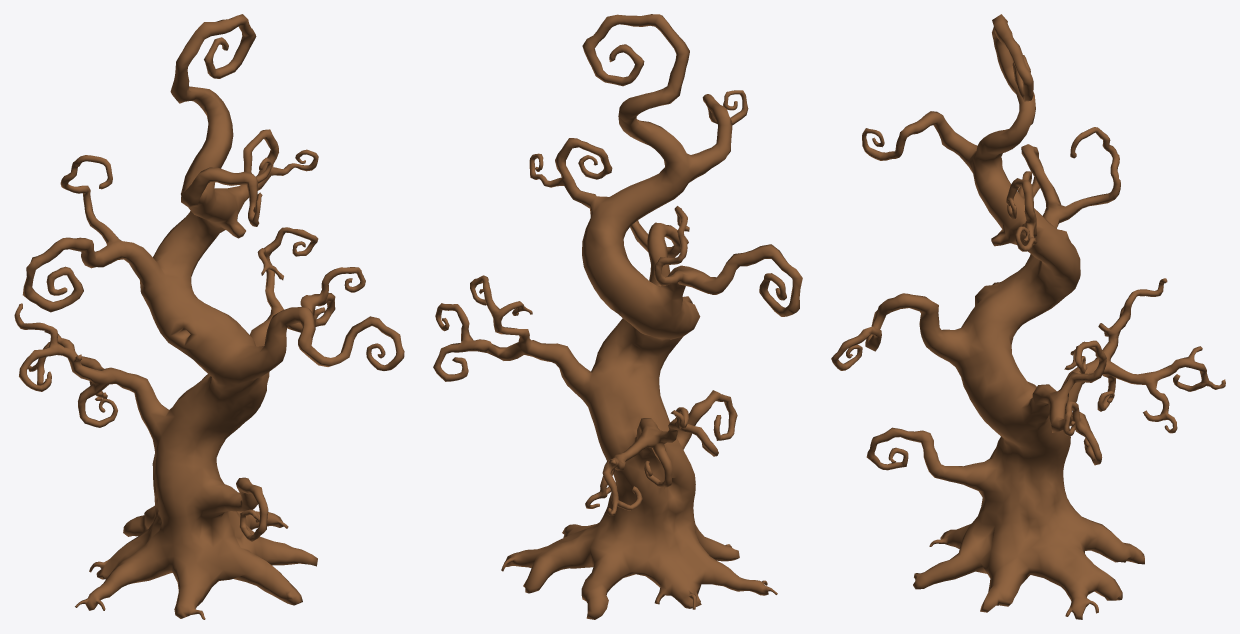
File: Tree_Spooky2_Low.obj
3 renders of one model, left to right at view 1: azimuth 30°, elevation 25°; view 2: azimuth 150°, elevation 25°; view 3: azimuth 270°, elevation 25°, orthographic. The views are drawn at different scales.
Parts seen in each view (by area): view 1: Tree_Spooky2_Low; view 2: Tree_Spooky2_Low; view 3: Tree_Spooky2_Low.
Boxes of the visible parts, x1,y1,x2,y2 form: Tree_Spooky2_Low: (14, 14, 404, 619); Tree_Spooky2_Low: (433, 14, 802, 619); Tree_Spooky2_Low: (831, 14, 1225, 619).
Bounding box in the file's own units: 102 × 154 × 100.
